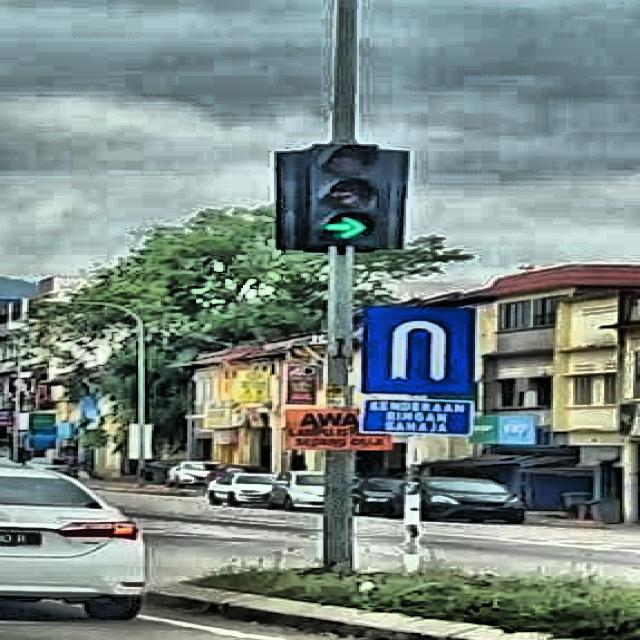green: (304, 144, 382, 242)
